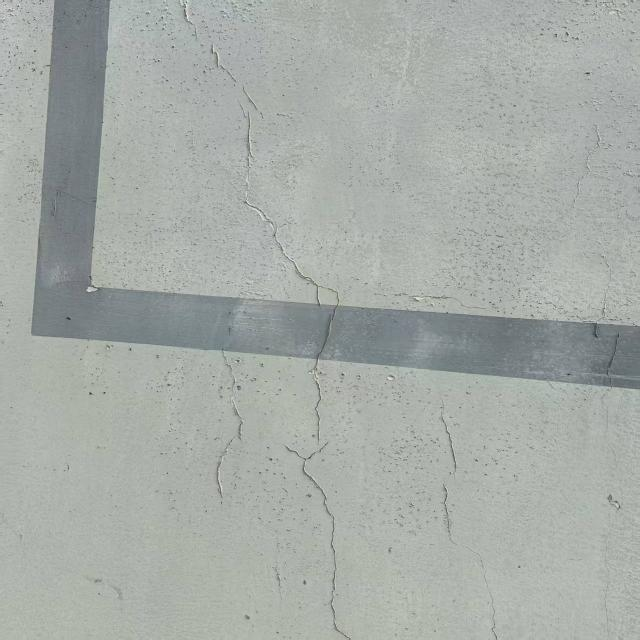crack: (171, 3, 359, 632), (429, 380, 506, 634), (205, 342, 257, 506)
